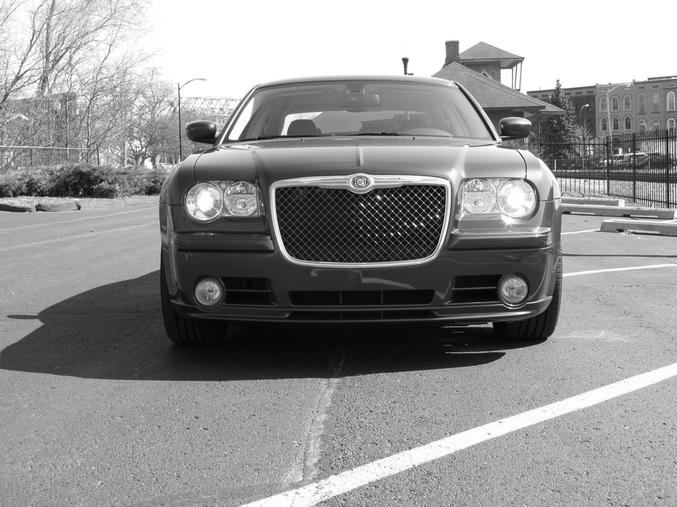car: (157, 77, 565, 352)
